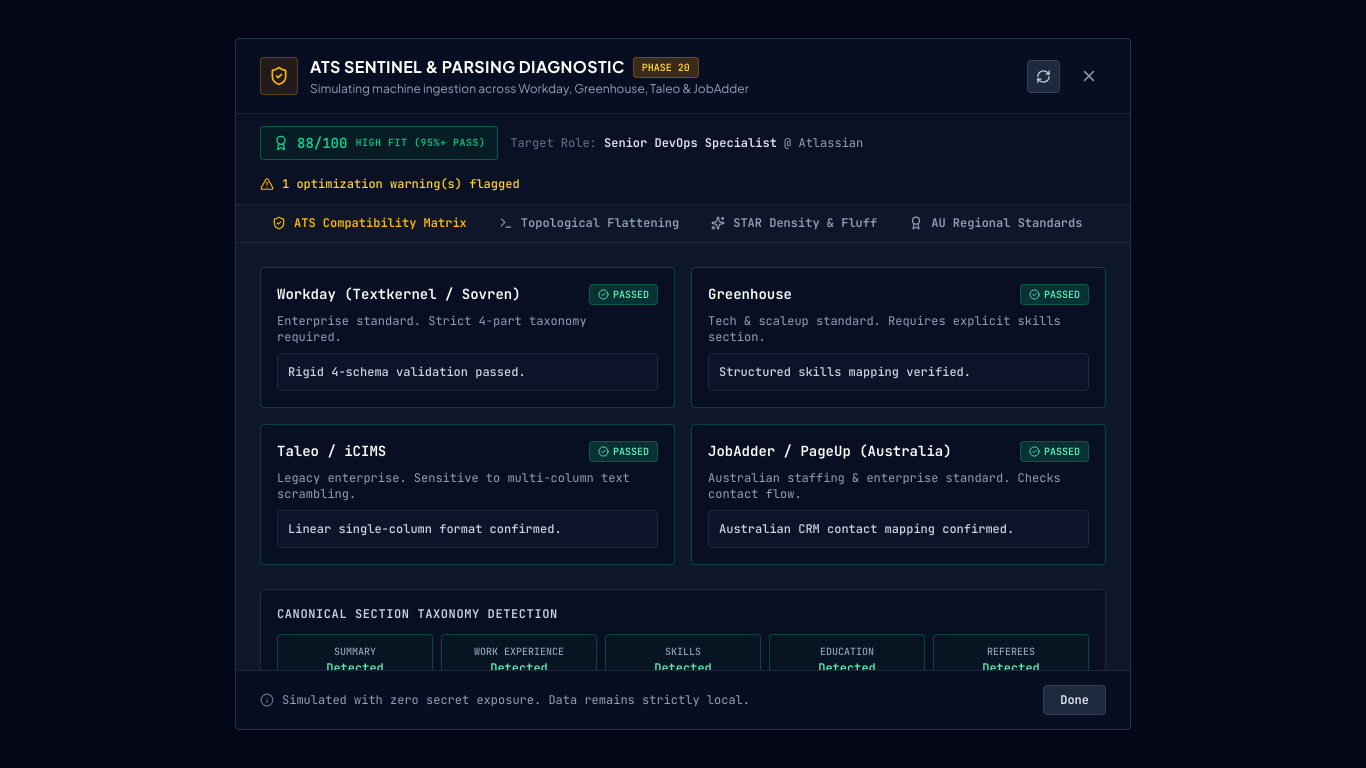
Test: AtsDiagnosticModal › allows switching between tabs cleanly
The width and height of the screenshot is (1366, 768).
Check: the text "Workday" is shown, box [310,81,749,96]
Note: Switch to Topological Flattening tab
Click the button "Topological Flattening": point(589, 224) [487,203,691,245]
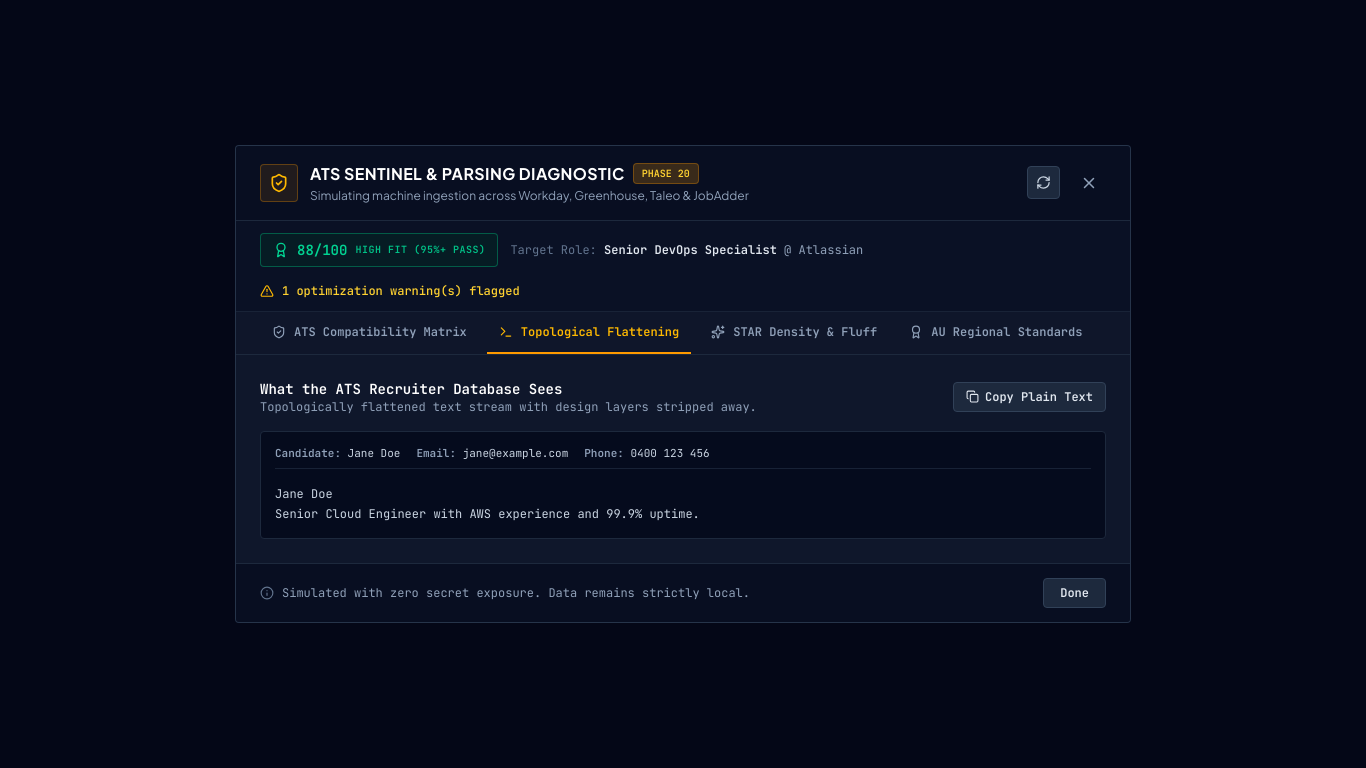
Check: the heading "What the ATS Recruiter Database Sees" is shown, box [260,380,562,398]
Note: Switch to STAR Metric tab
Click the button "STAR Density & Fluff": point(794, 333) [699,312,889,354]
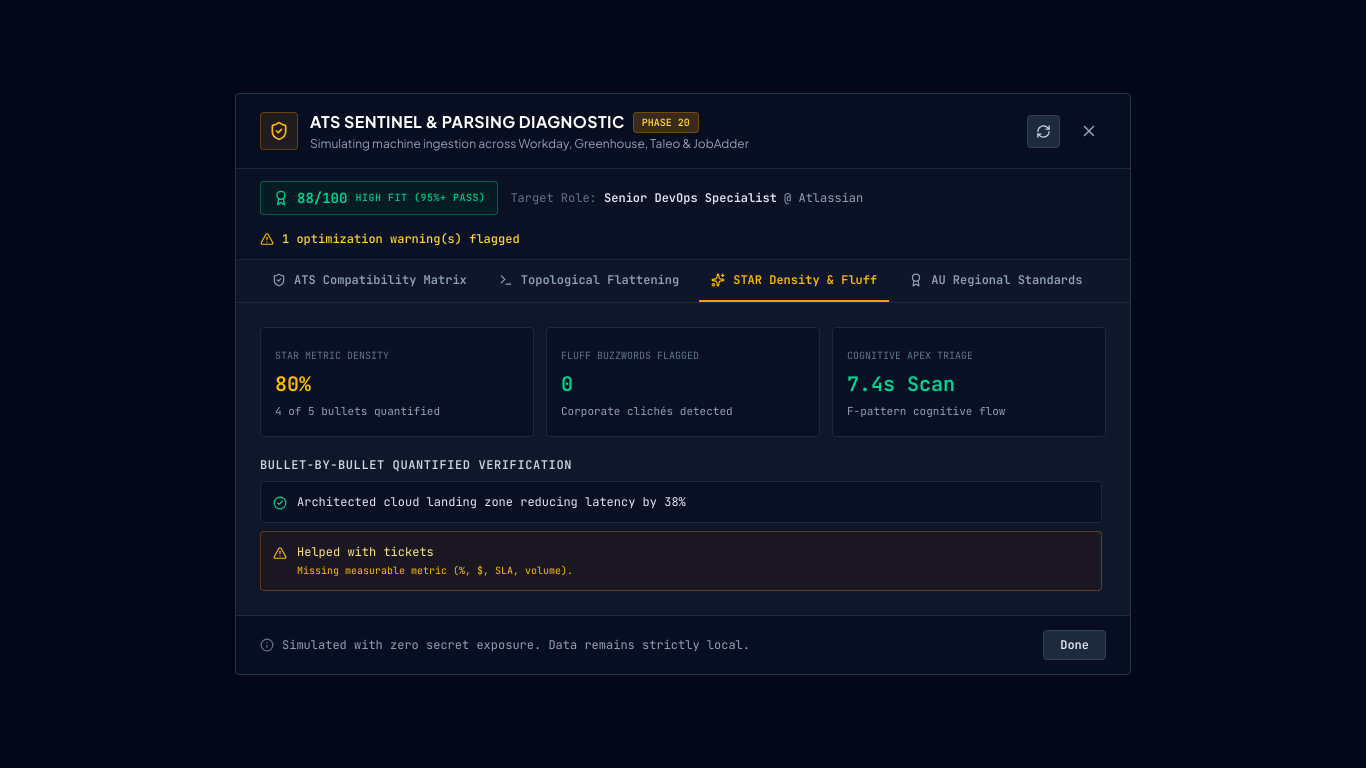
Check: the text "STAR Metric Density" is shown, box [275,349,389,362]
Note: Switch to Regional AU tab
Click the button "AU Regional Standards": point(996, 281) [897,260,1094,302]
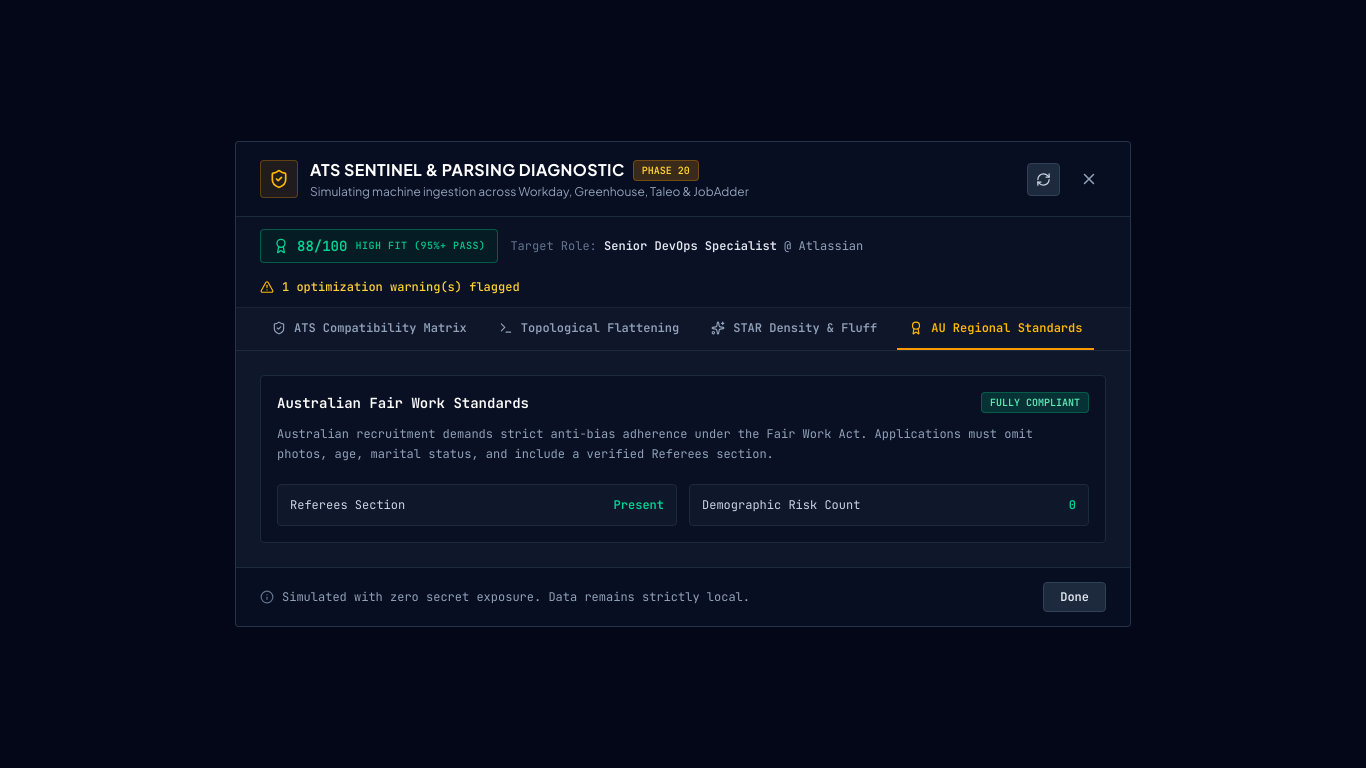
Check: the heading "Australian Fair Work Standards" is shown, box [277,392,529,412]
